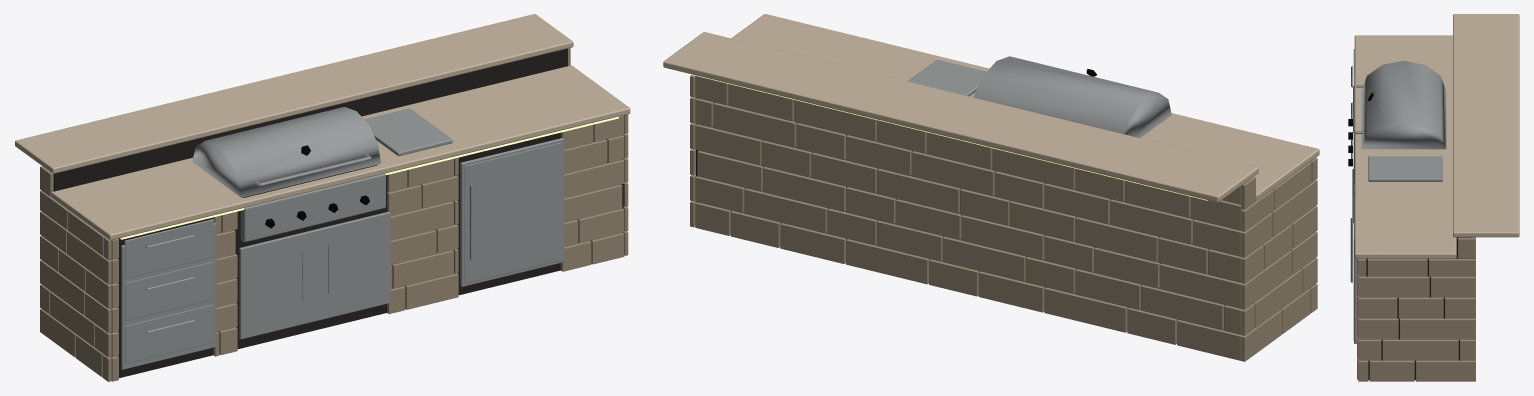
The model's file is kitchen-island-lod2.glb.
3 views of the same model, side by side, from view 1: azimuth 30°, elevation 25°; view 2: azimuth 150°, elevation 25°; view 3: azimuth 270°, elevation 25° (orthographic). The views are drawn at different scales.
Parts seen in each view (by area): view 1: Brushed stainless steel, Honed warm quartz counter, Greyed nickel stone veneer, Recessed joint, Warm LED strip, 2700 K; view 2: Greyed nickel stone veneer, Honed warm quartz counter, Brushed stainless steel, Warm LED strip, 2700 K; view 3: Honed warm quartz counter, Greyed nickel stone veneer, Brushed stainless steel, Recessed joint, Black control knob.
Boxes of the visible parts, x1,y1,x2,y2 form: Brushed stainless steel: (121,107,563,369); Honed warm quartz counter: (15,14,630,240); Greyed nickel stone veneer: (40,48,628,381); Recessed joint: (53,48,623,378); Warm LED strip, 2700 K: (120,116,618,239); Greyed nickel stone veneer: (690,75,1317,361); Honed warm quartz counter: (663,14,1319,202); Brushed stainless steel: (908,56,1171,137); Warm LED strip, 2700 K: (677,71,1207,200); Honed warm quartz counter: (1354,14,1519,258); Greyed nickel stone veneer: (1357,237,1475,381); Brushed stainless steel: (1350,49,1446,343); Recessed joint: (1366,237,1471,380); Black control knob: (1348,93,1373,166).
Size of the model in its own units: 3.35 by 1.14 by 1.11.
